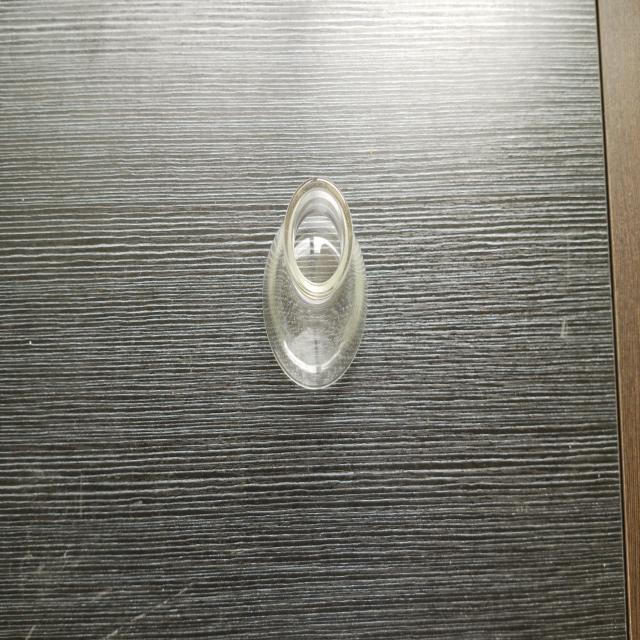erlenmeyer_flask: (260, 172, 371, 398)
